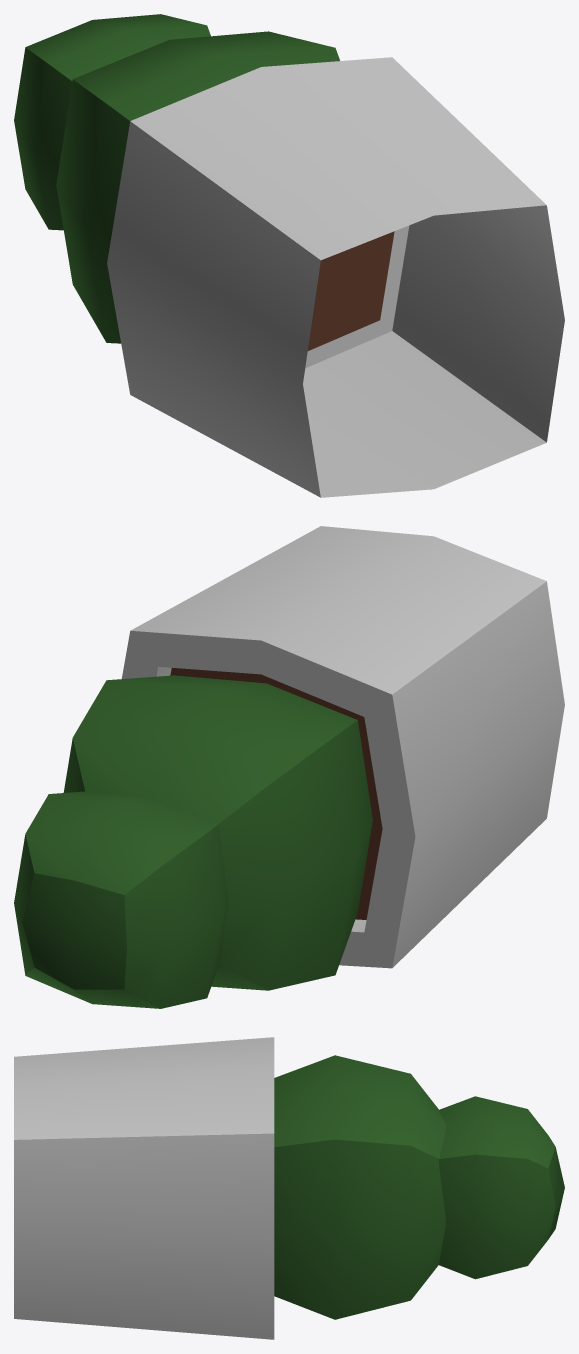
File: Potted Plant 03.FBX
3 renders of one model, top to bottom at view 1: azimuth 30°, elevation 25°; view 2: azimuth 150°, elevation 25°; view 3: azimuth 270°, elevation 25°, orthographic. The views are drawn at different scales.
Visible parts, largest first — view 1: Potted Plant 03; view 2: Potted Plant 03; view 3: Potted Plant 03.
Boxes of the visible parts, x1,y1,x2,y2 form: Potted Plant 03: [14, 14, 564, 497]; Potted Plant 03: [14, 526, 564, 1008]; Potted Plant 03: [14, 1037, 564, 1339].
Size of the model in its own units: 83.36 by 82.74 by 171.
1 material, 1 textured.
